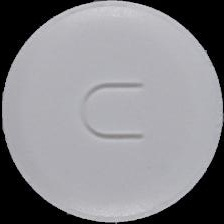68788-6781: (0, 0, 224, 224)
